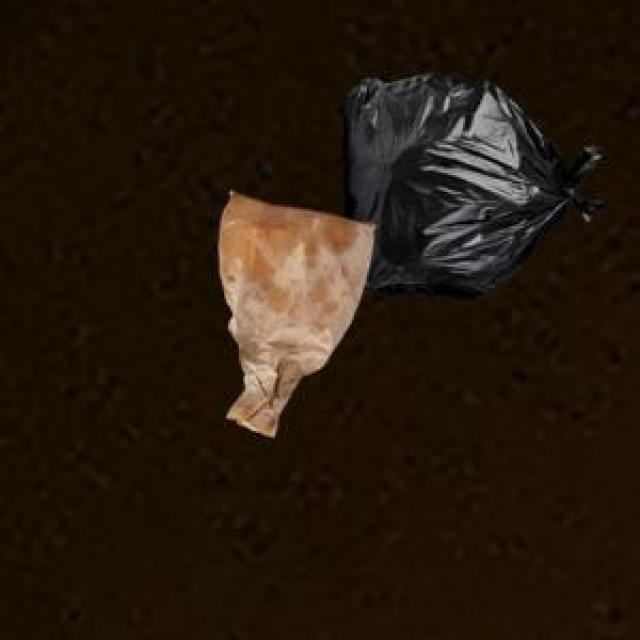miscellaneous trash: (339, 70, 606, 294)
paper: (216, 188, 371, 433)
